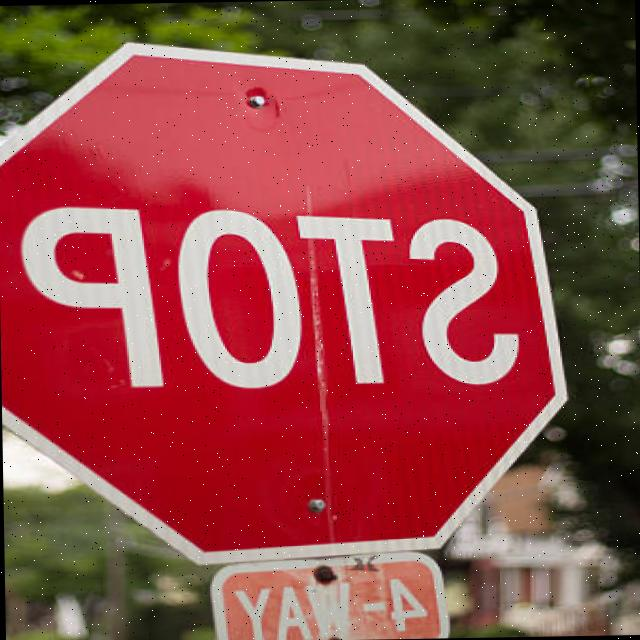stop: (0, 24, 573, 565)
